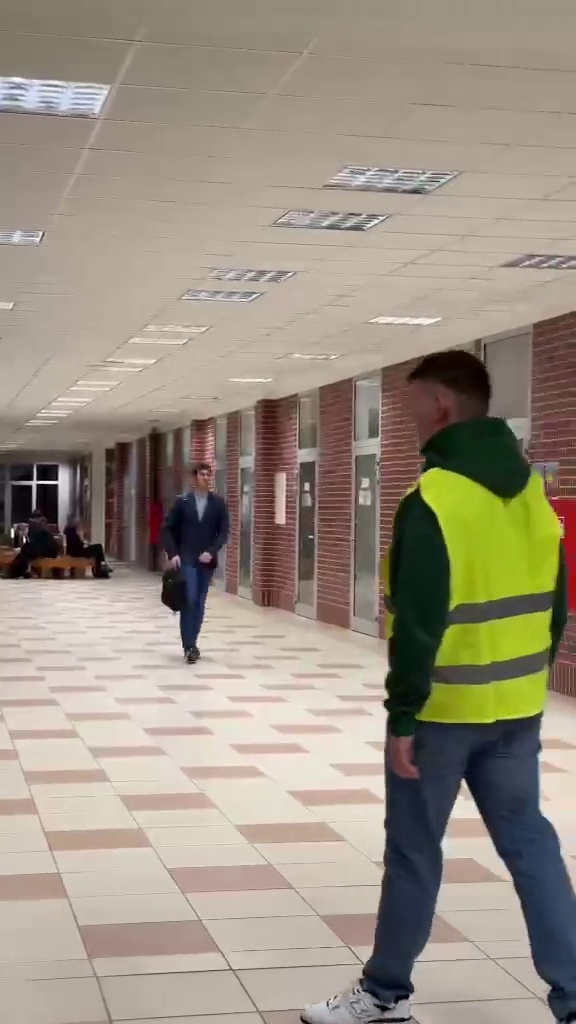no vest: (160, 466, 232, 653)
vest: (324, 342, 576, 1024)
